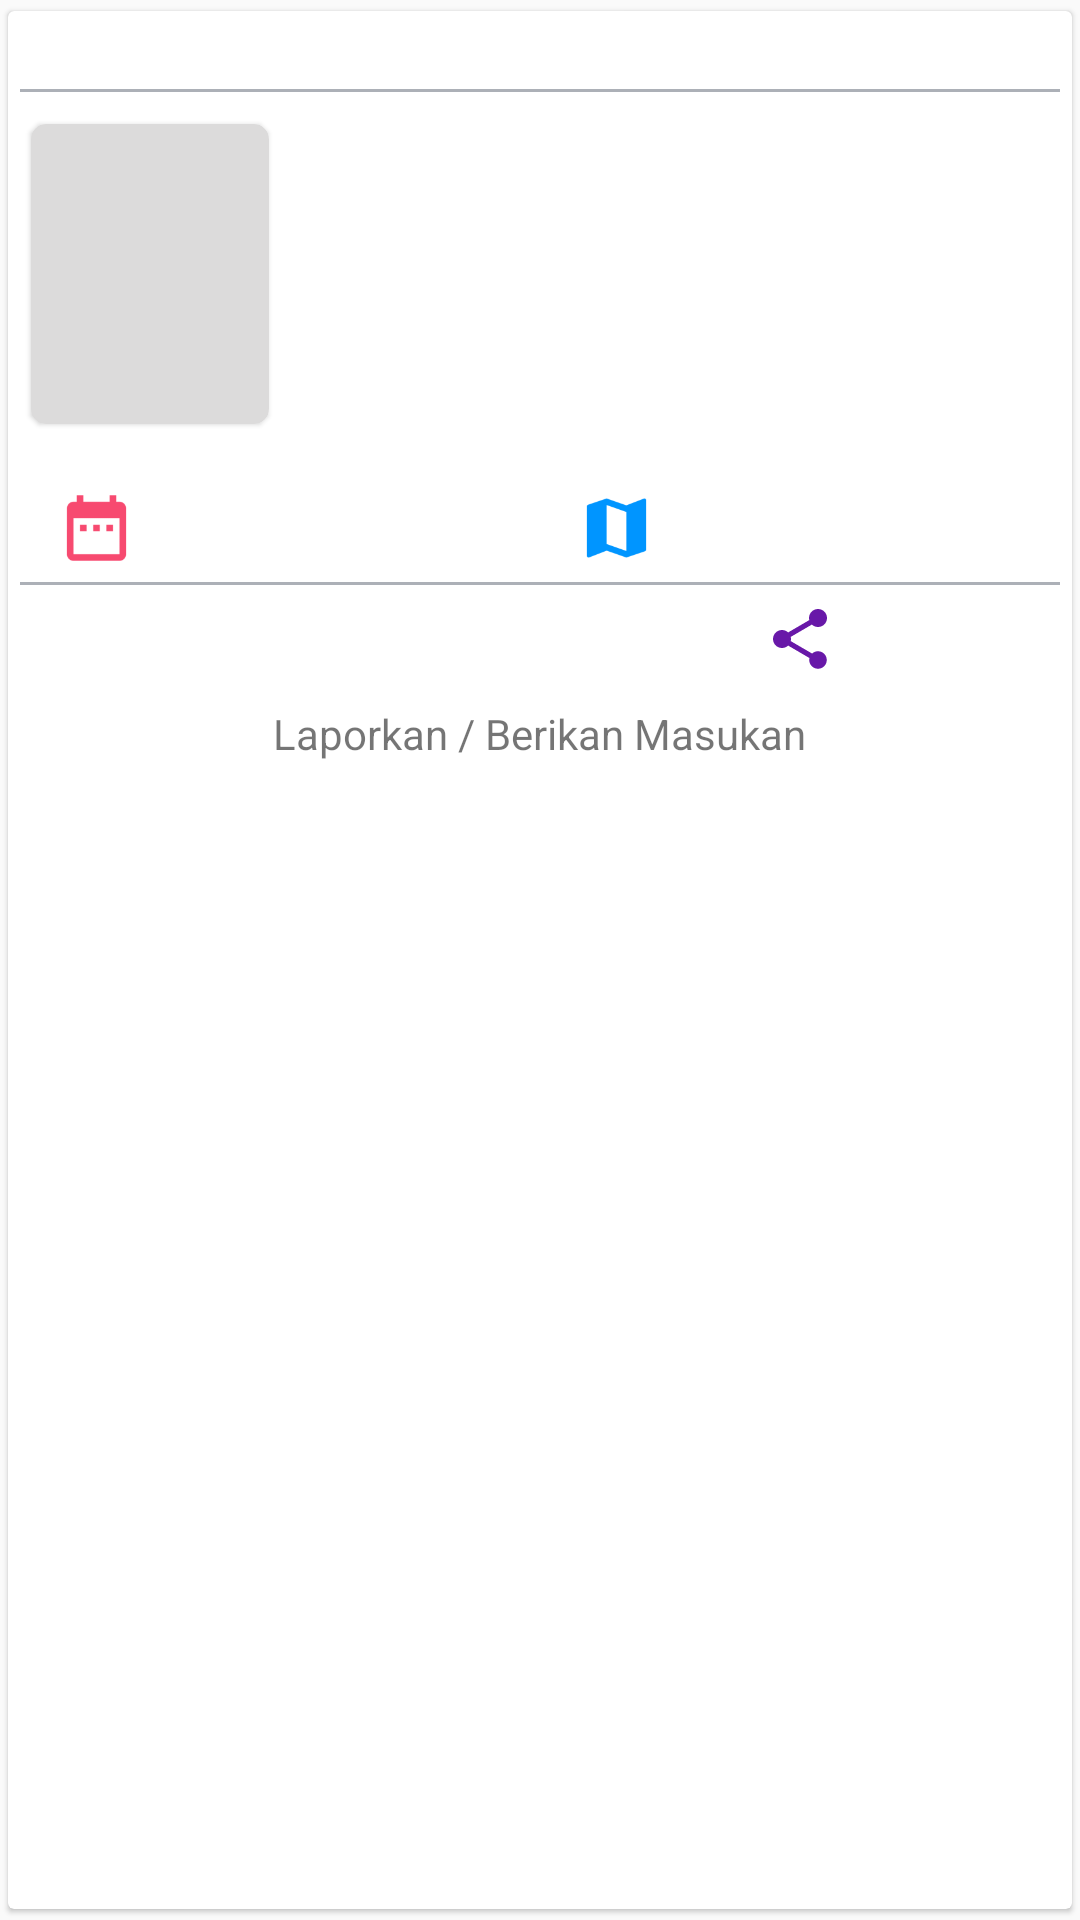

Locate icon controls on the screen. Image size 1080 × 1920, boxes as [x1=x1, y1=y1, x2=x2, y2=y2].
date: [x1=67, y1=495, x2=126, y2=561]
share: [x1=773, y1=609, x2=827, y2=669]
tempat: [x1=586, y1=498, x2=647, y2=558]
